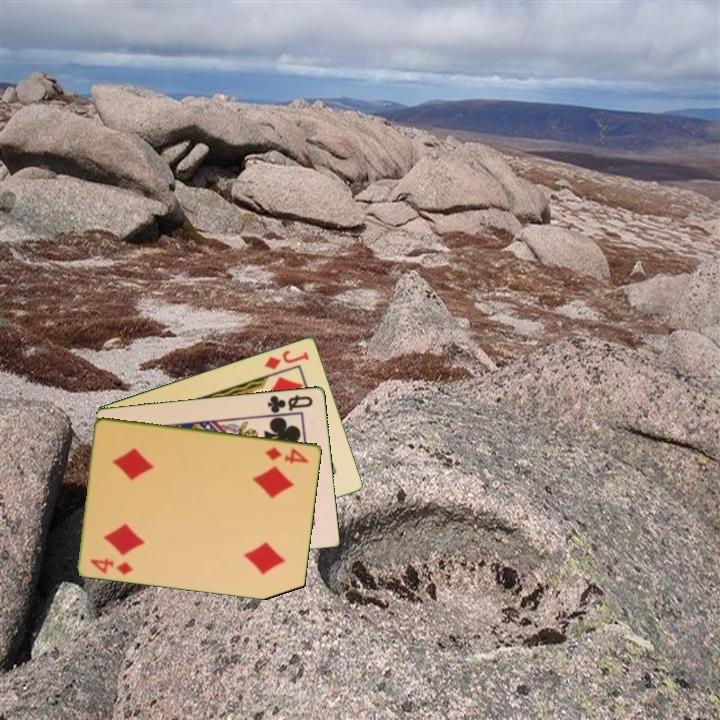4d: (262, 443, 312, 466), (87, 554, 136, 577)
Jd: (261, 346, 312, 372)
Qc: (264, 391, 316, 416)
